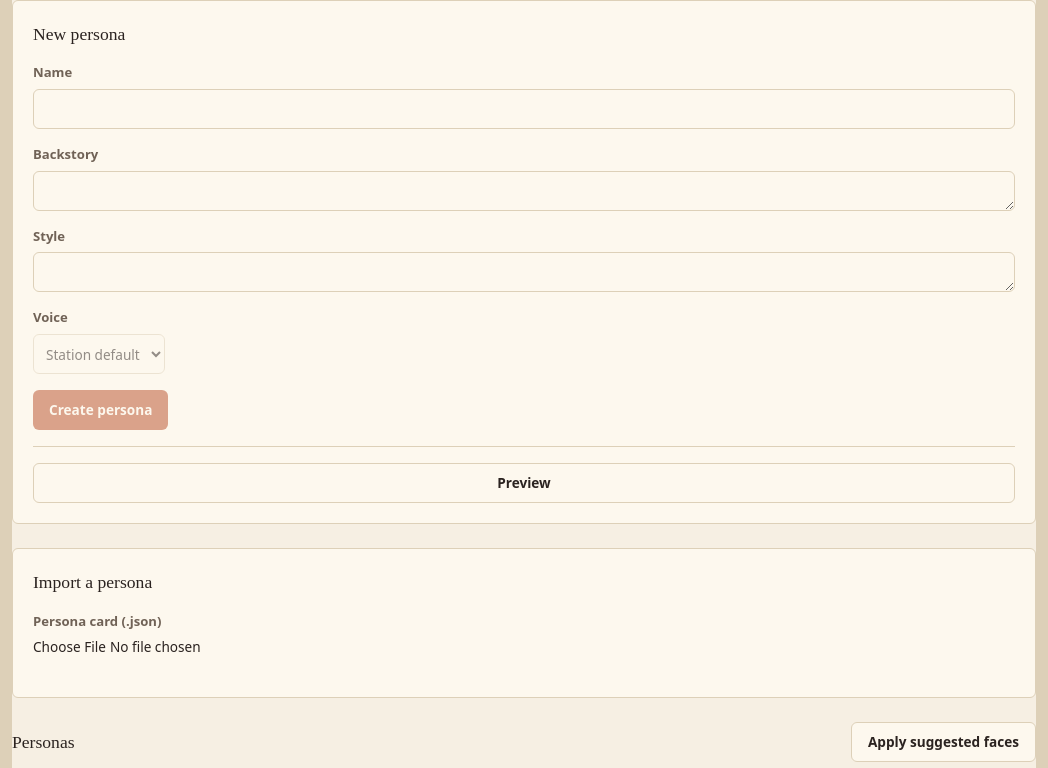
Test: Feature: Author personas from the console › Scenario: CRUD from the page › toasts failures naming the outcome (F31.3)
The image size is (1048, 768).
Type "Radio Rex" into the field labelled "Name" at (524, 109), box [33,89,1015,129]
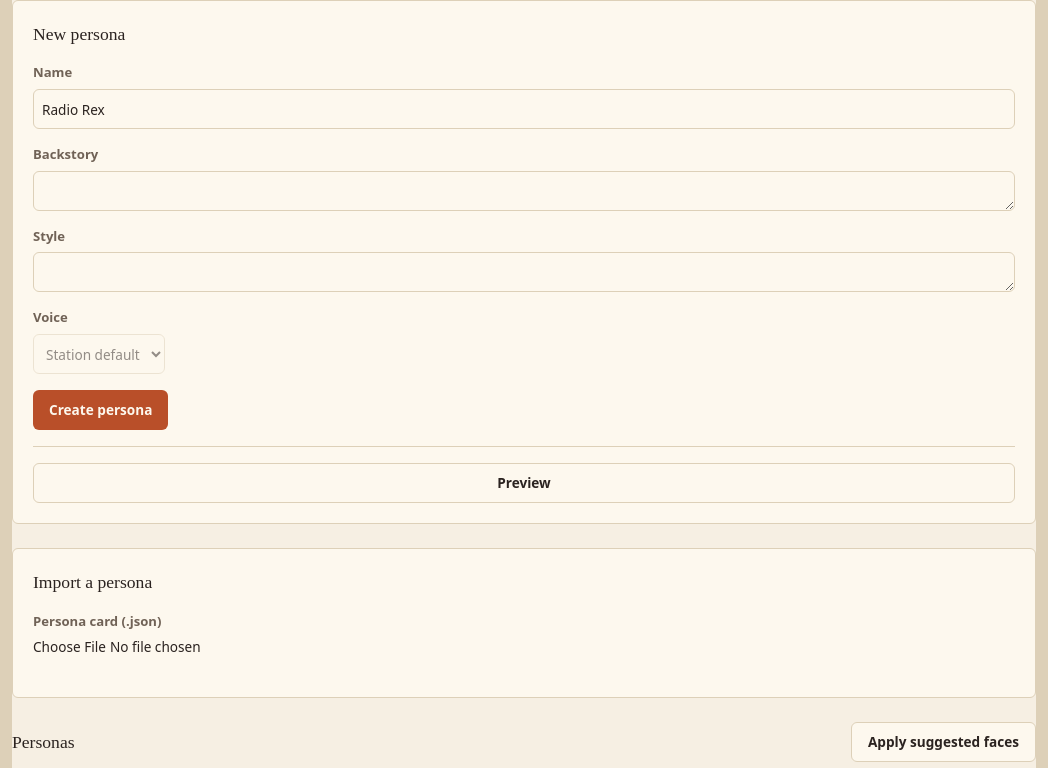
Click the button "Create persona" at (101, 410), box [33,390,168,430]
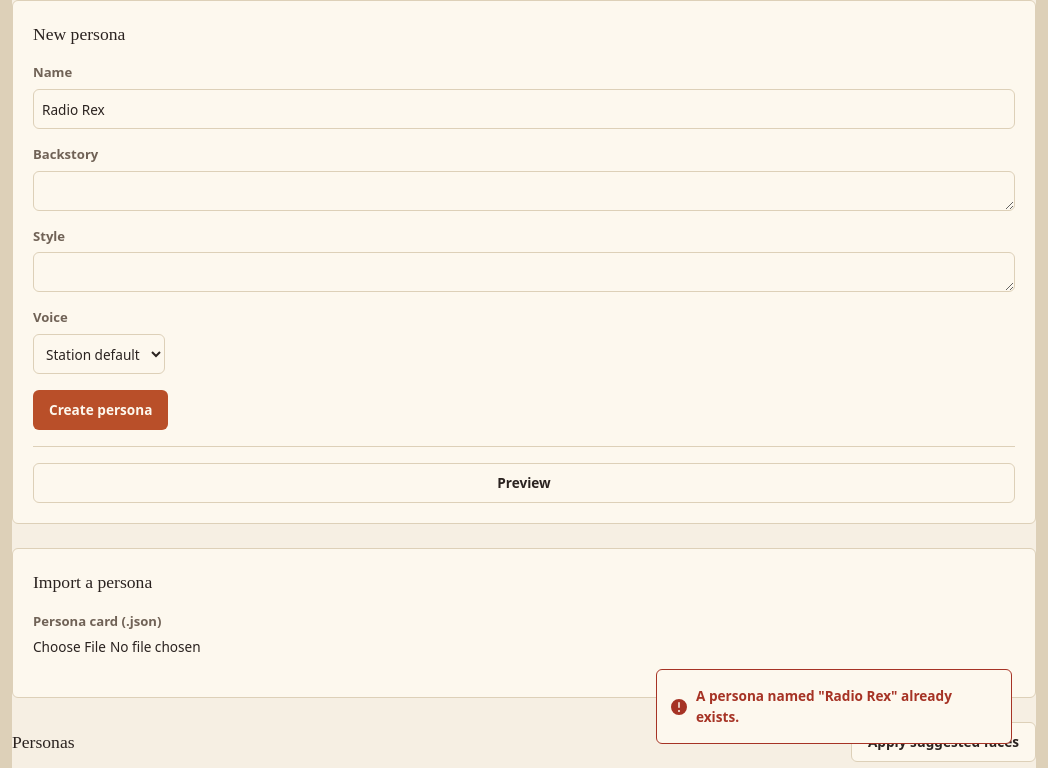
Now the text "A persona named \"Radio Rex\" already exists." is shown, box [696,686,995,727]
